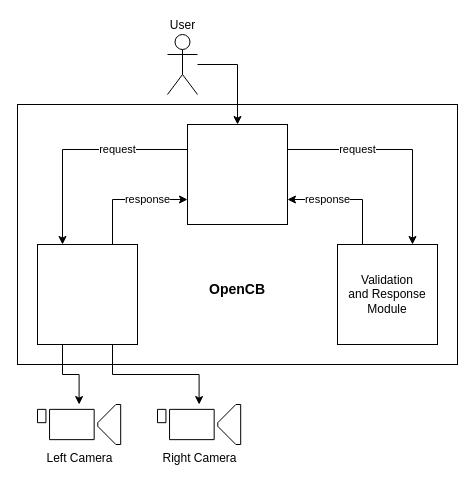
Some shapes in this 475 by 482 pixel diagram are drawn without their labels. Each missing label, with the centre of its shape:
"Image Processing Module" belongs at point (87, 294).
"User Application Module" belongs at point (237, 174).
